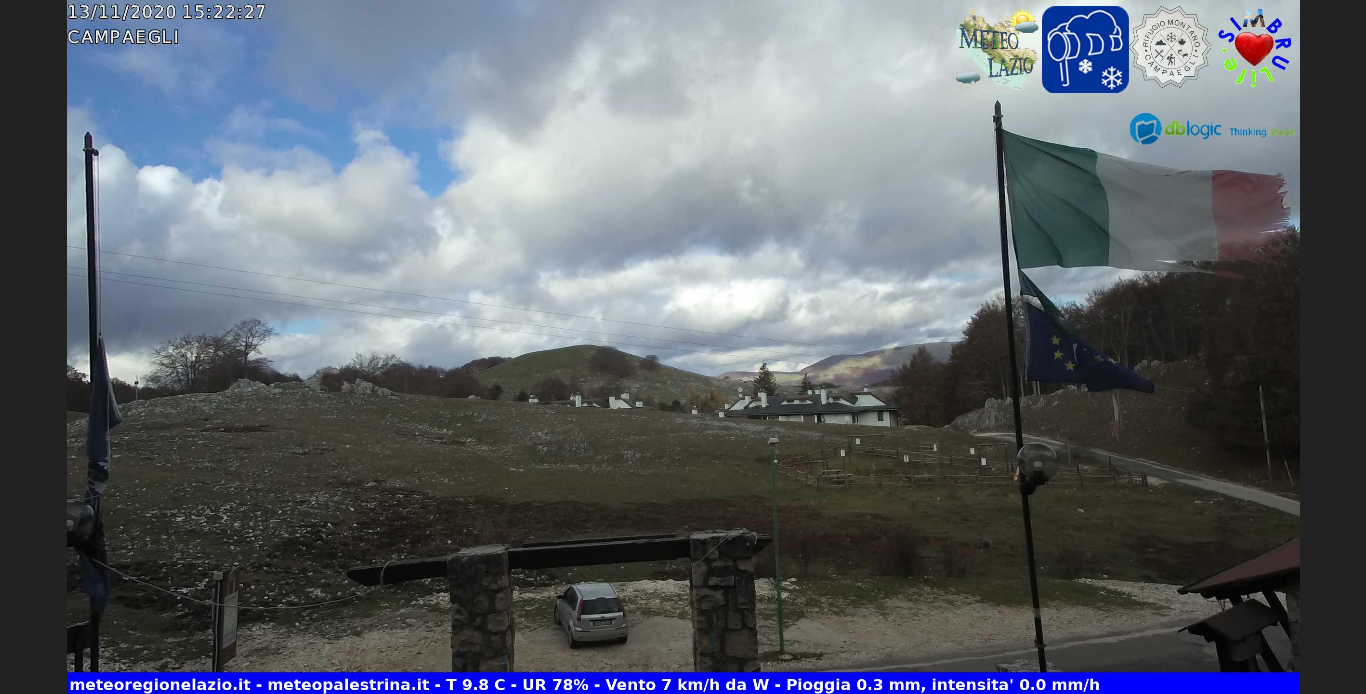maybe: (993, 292, 1173, 410)
yes: (985, 102, 1300, 291)
